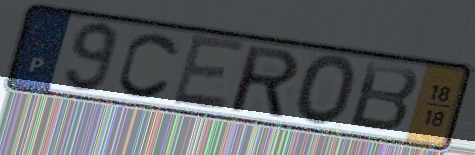9: (61, 19, 121, 95)
B: (345, 60, 422, 135)
C: (115, 29, 184, 101)
E: (169, 32, 249, 113)
O: (292, 52, 360, 129)
R: (229, 43, 302, 121)
